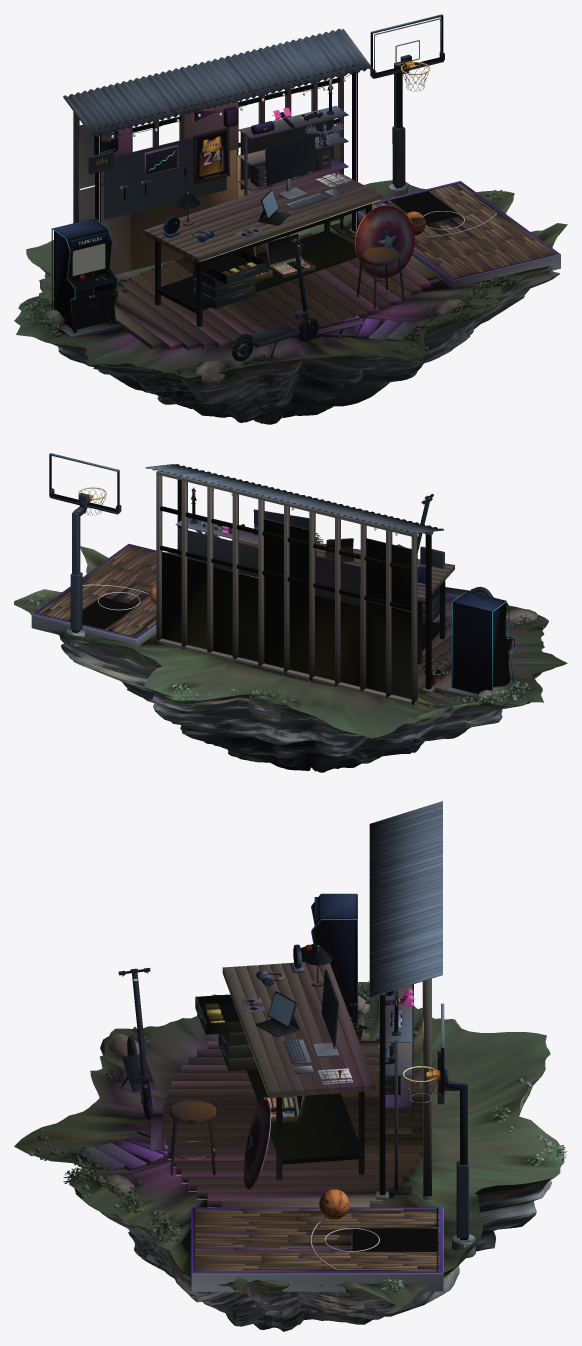
Rendered from flight-projects-2343e4b3.glb.
3 views of the same model, one above another, from view 1: azimuth 30°, elevation 25°; view 2: azimuth 150°, elevation 25°; view 3: azimuth 270°, elevation 25° (orthographic). The views are drawn at different scales.
Visible parts, largest first — view 1: Projects island · flight.001; view 2: Projects island · flight.001; view 3: Projects island · flight.001.
Boxes of the visible parts, box(x1,y1,x2,y2) form: Projects island · flight.001: box(14, 14, 567, 424); Projects island · flight.001: box(14, 453, 567, 772); Projects island · flight.001: box(14, 801, 566, 1331).
Bounding box in the file's own units: 12.05 × 7.16 × 8.77.
